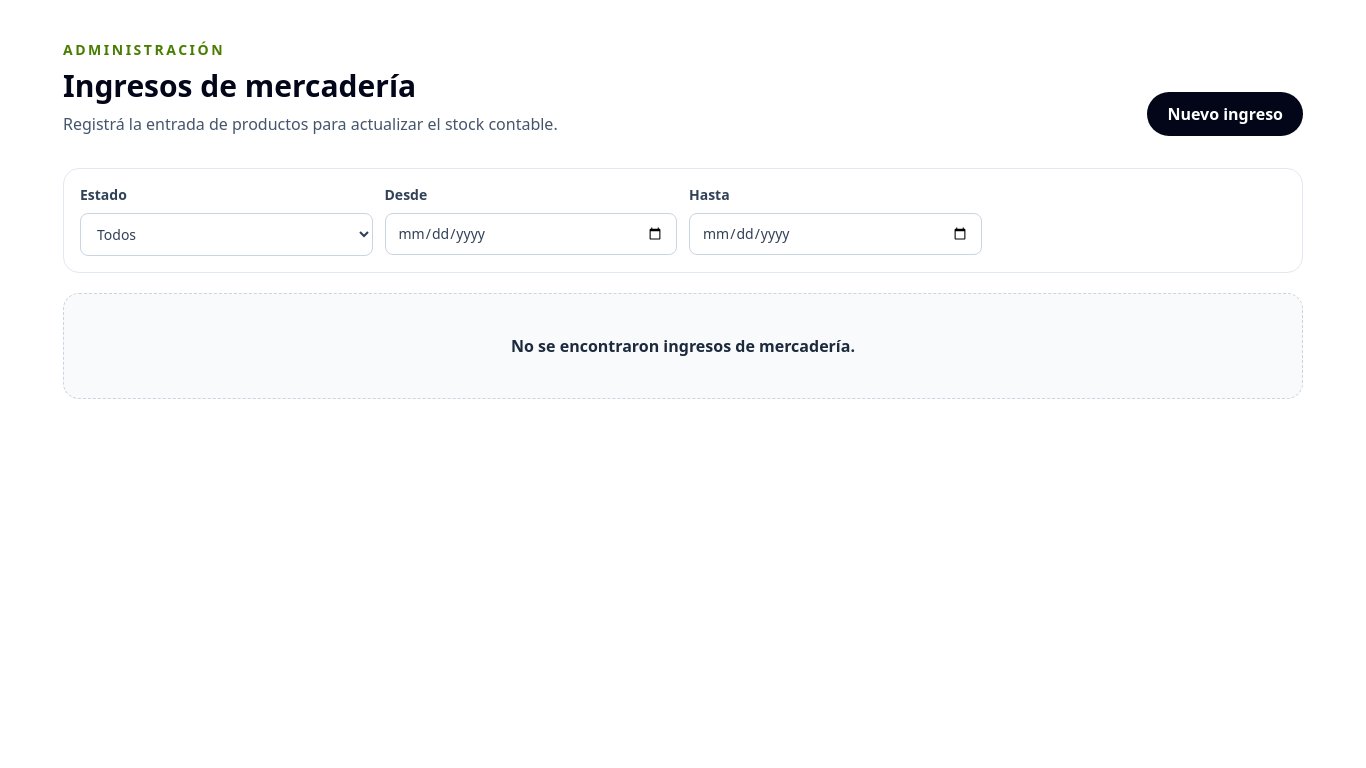
administración de ingresos de mercadería › calcula el total del ingreso a medida que se cargan las líneas
Check: the text "No se encontraron ingresos de mercadería." is shown, box left=511, top=335, right=855, bottom=357
Step 1. Click the button "Nuevo ingreso" → (1225, 114), box left=1147, top=92, right=1303, bottom=136
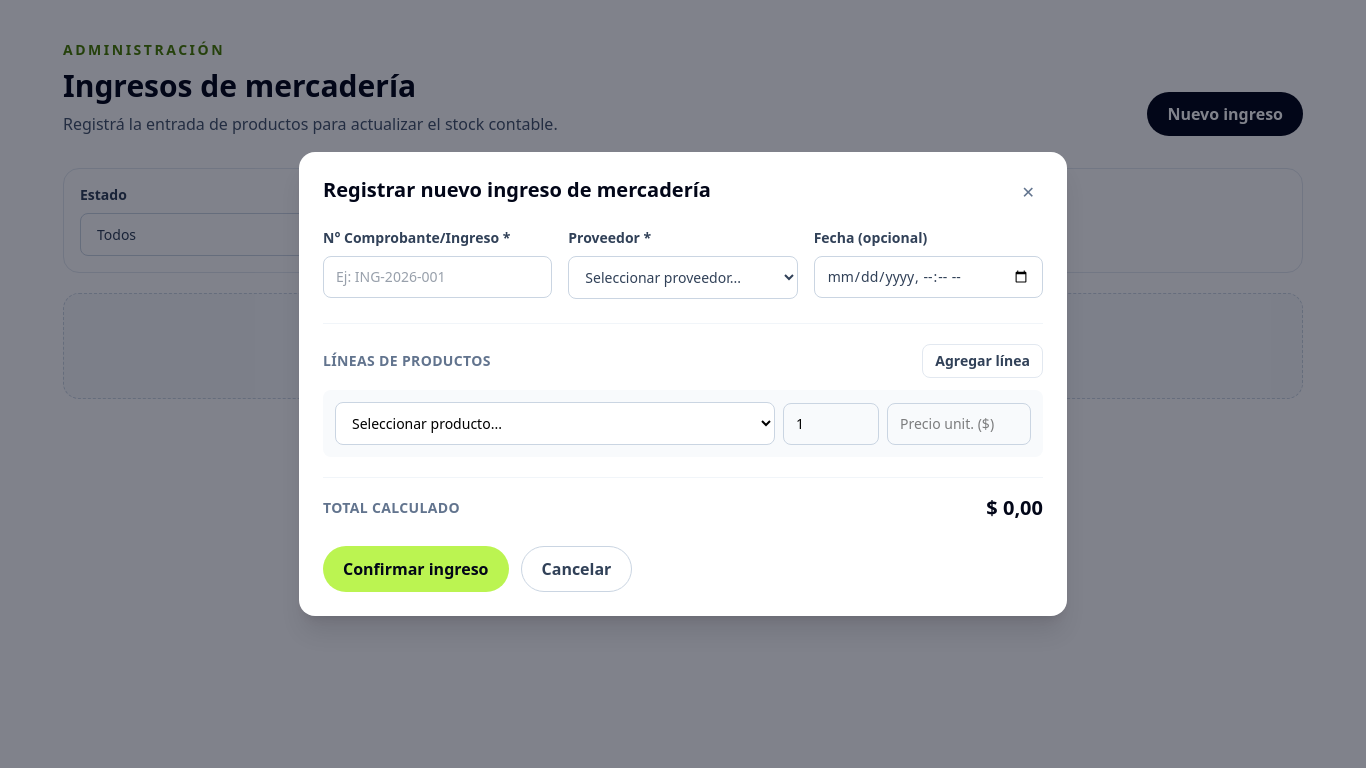
Check: the dialog "Registrar nuevo ingreso" is shown, box left=299, top=152, right=1067, bottom=616
Step 2. Replace the text in the number field named "Cantidad de la línea 1" with "3" → (831, 424), box left=783, top=402, right=879, bottom=444
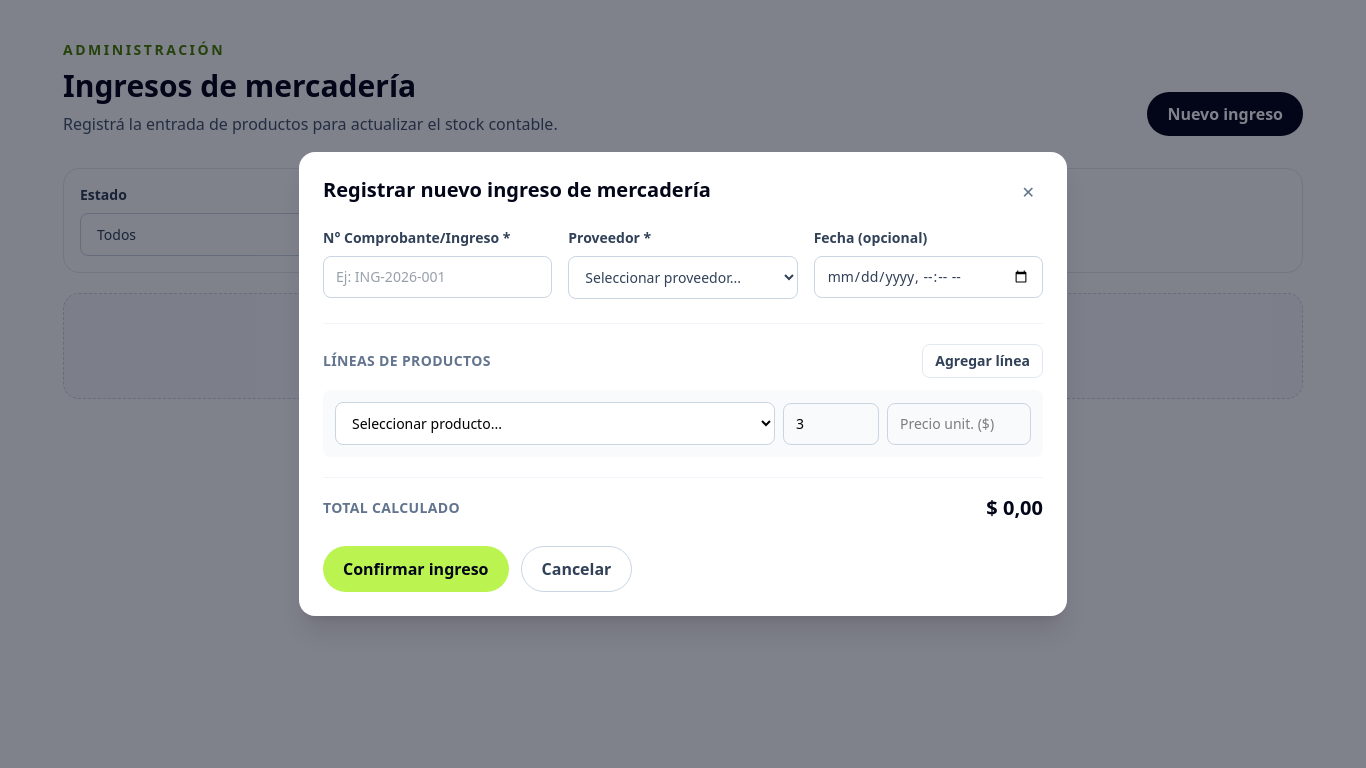
Step 3. Type "100.50" into the number field named "Precio unitario de la línea 1" → (959, 424), box left=887, top=402, right=1031, bottom=444
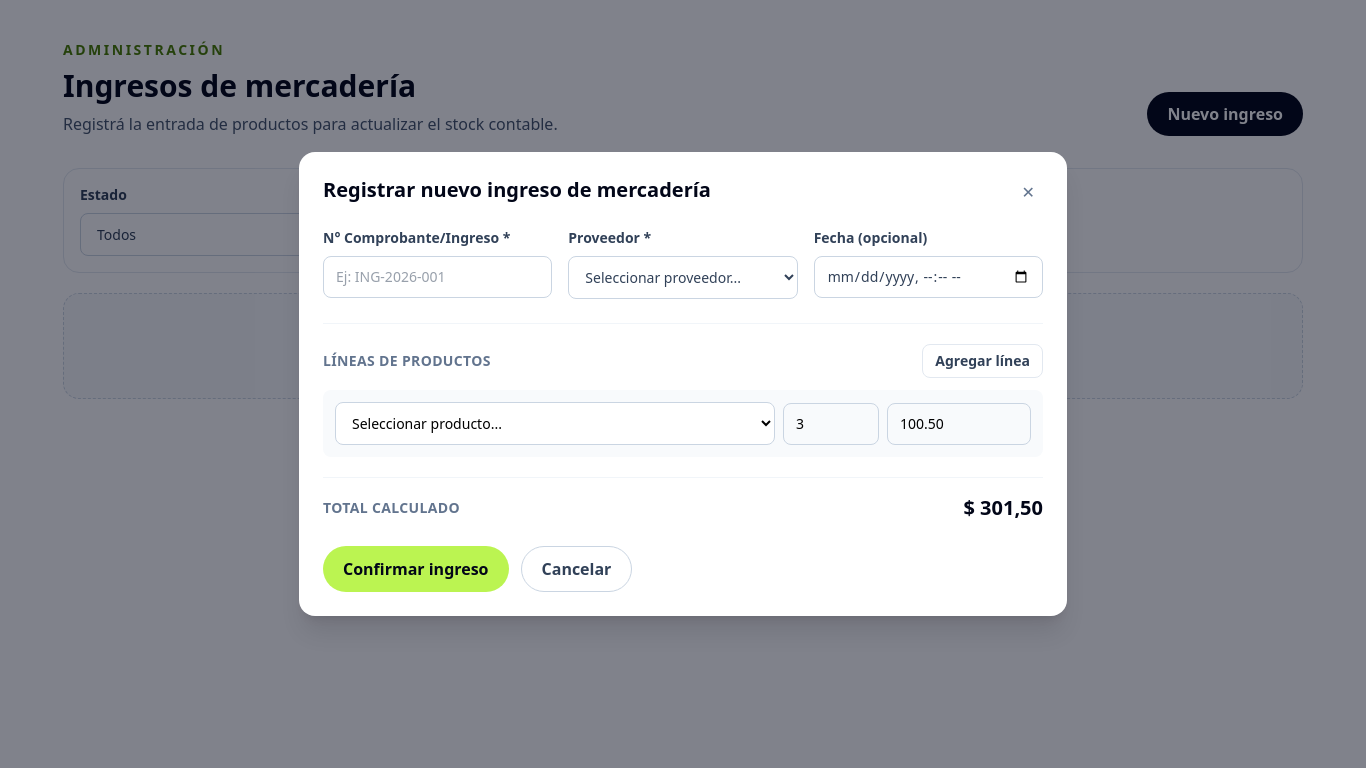
Check: the text "$ 301,50" is shown, box left=964, top=494, right=1043, bottom=522
